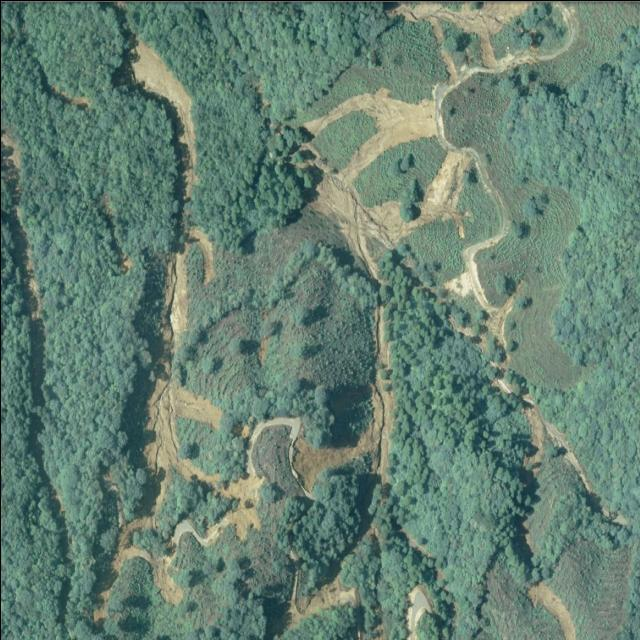landslide: (291, 305, 394, 493), (304, 86, 436, 182), (130, 38, 195, 193), (144, 379, 220, 487), (313, 174, 391, 277), (288, 569, 359, 630), (113, 545, 181, 605), (423, 149, 470, 211), (527, 582, 576, 640), (165, 242, 188, 353), (522, 405, 545, 464), (187, 228, 213, 280), (221, 474, 263, 505)
